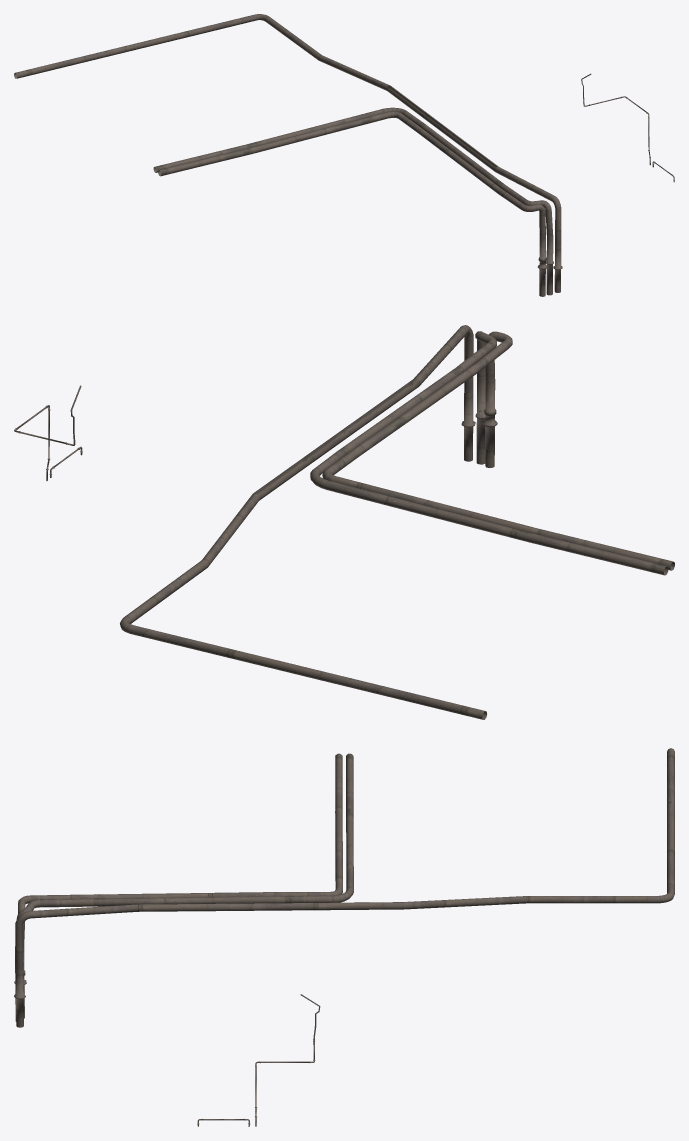
The model's file is Corridor_01_18.fbx.
3 renders of one model, top to bottom at view 1: azimuth 30°, elevation 25°; view 2: azimuth 150°, elevation 25°; view 3: azimuth 270°, elevation 25°, orthographic. The views are drawn at different scales.
Visible parts, largest first — view 1: Corridor_01_18; view 2: Corridor_01_18; view 3: Corridor_01_18.
Boxes of the visible parts, x1,y1,x2,y2 form: Corridor_01_18: (14,14,674,296); Corridor_01_18: (14,325,674,719); Corridor_01_18: (14,748,674,1126).
Bounding box in the file's own units: 3487 × 705 × 3494.
